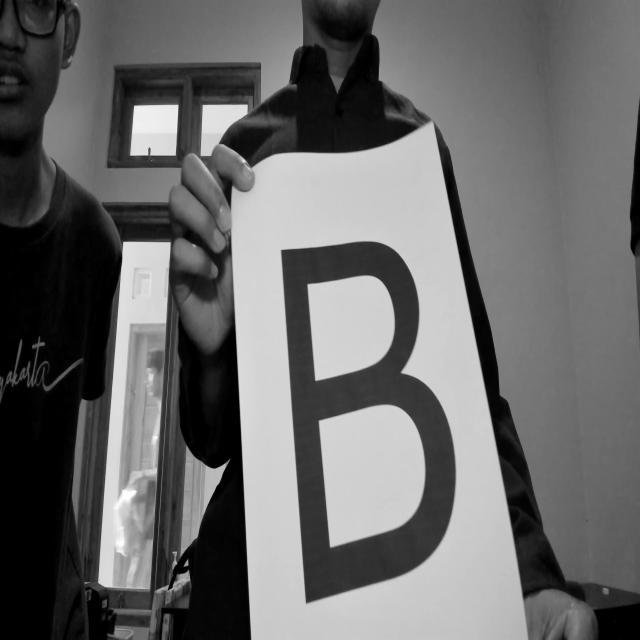b: (268, 218, 472, 618)
